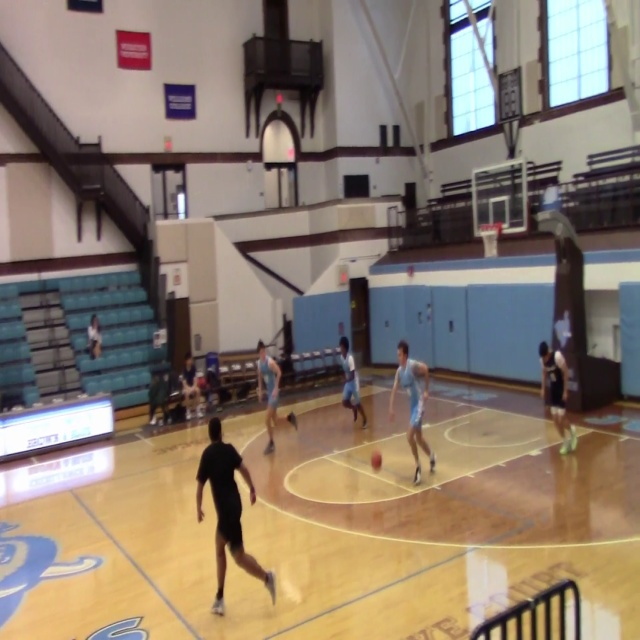Basketball: (371, 450, 382, 469)
